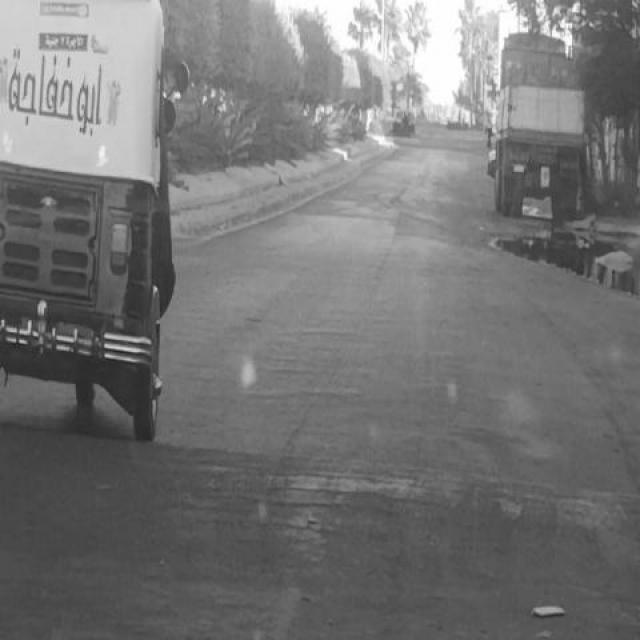Unmarked Bump: (0, 418, 640, 619)
